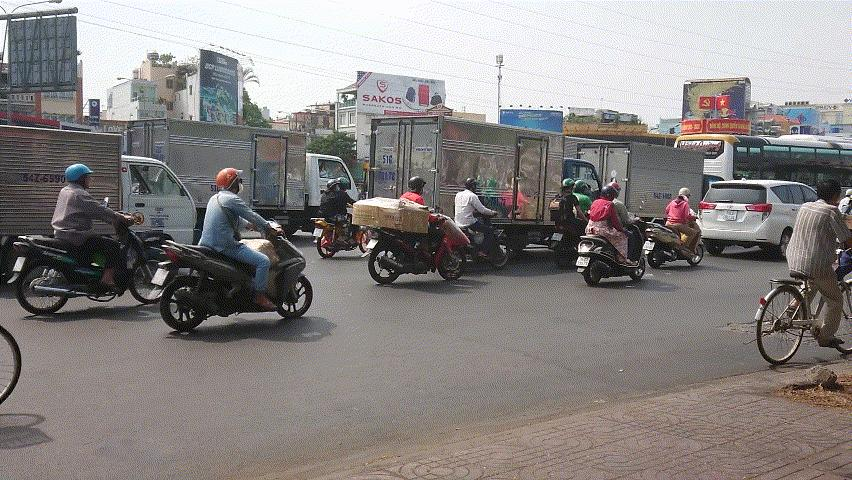bicyclist: (741, 177, 852, 366)
driver: (153, 168, 313, 333), (8, 163, 175, 316), (352, 176, 471, 285), (575, 180, 647, 288), (454, 177, 510, 271), (310, 176, 372, 260), (643, 187, 705, 270)
helmet: (64, 164, 95, 190), (216, 167, 244, 194), (408, 177, 426, 195), (601, 185, 619, 201), (562, 178, 575, 195), (326, 179, 341, 193), (678, 187, 692, 202), (465, 177, 478, 193), (575, 179, 588, 195)
no-helmet: (817, 177, 842, 206)
